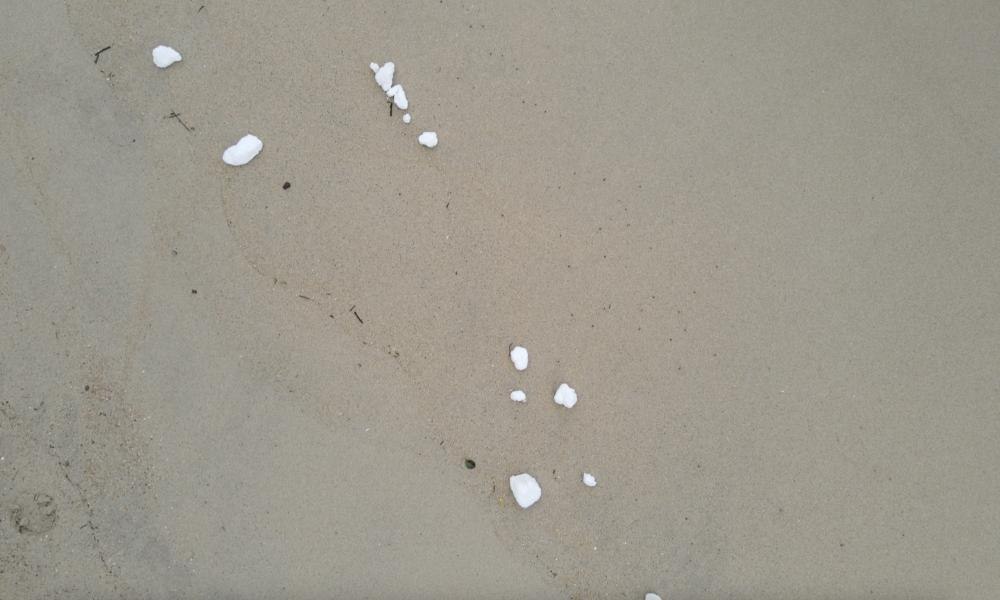styrofoam: (378, 63, 409, 109), (226, 130, 260, 164), (511, 468, 538, 508), (154, 45, 182, 68), (555, 383, 580, 408), (511, 344, 530, 371), (421, 128, 435, 144), (512, 390, 524, 402)
